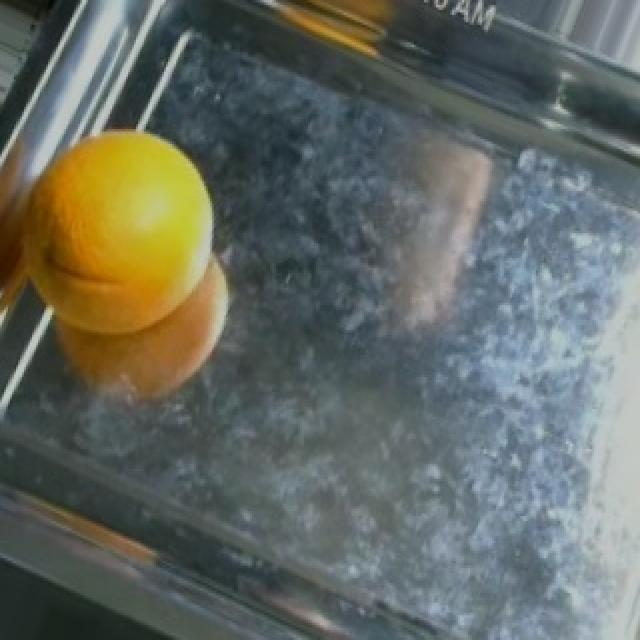Fruit: (2, 114, 256, 429), (236, 0, 450, 52)
